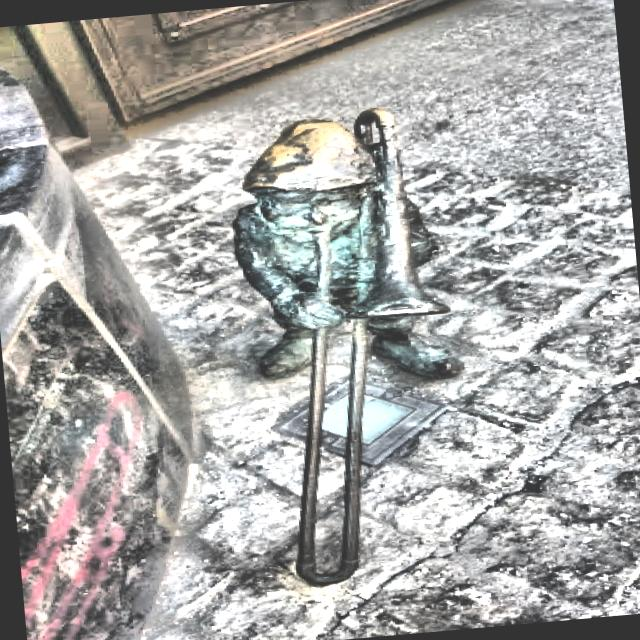Vertigus: (233, 108, 460, 583)
